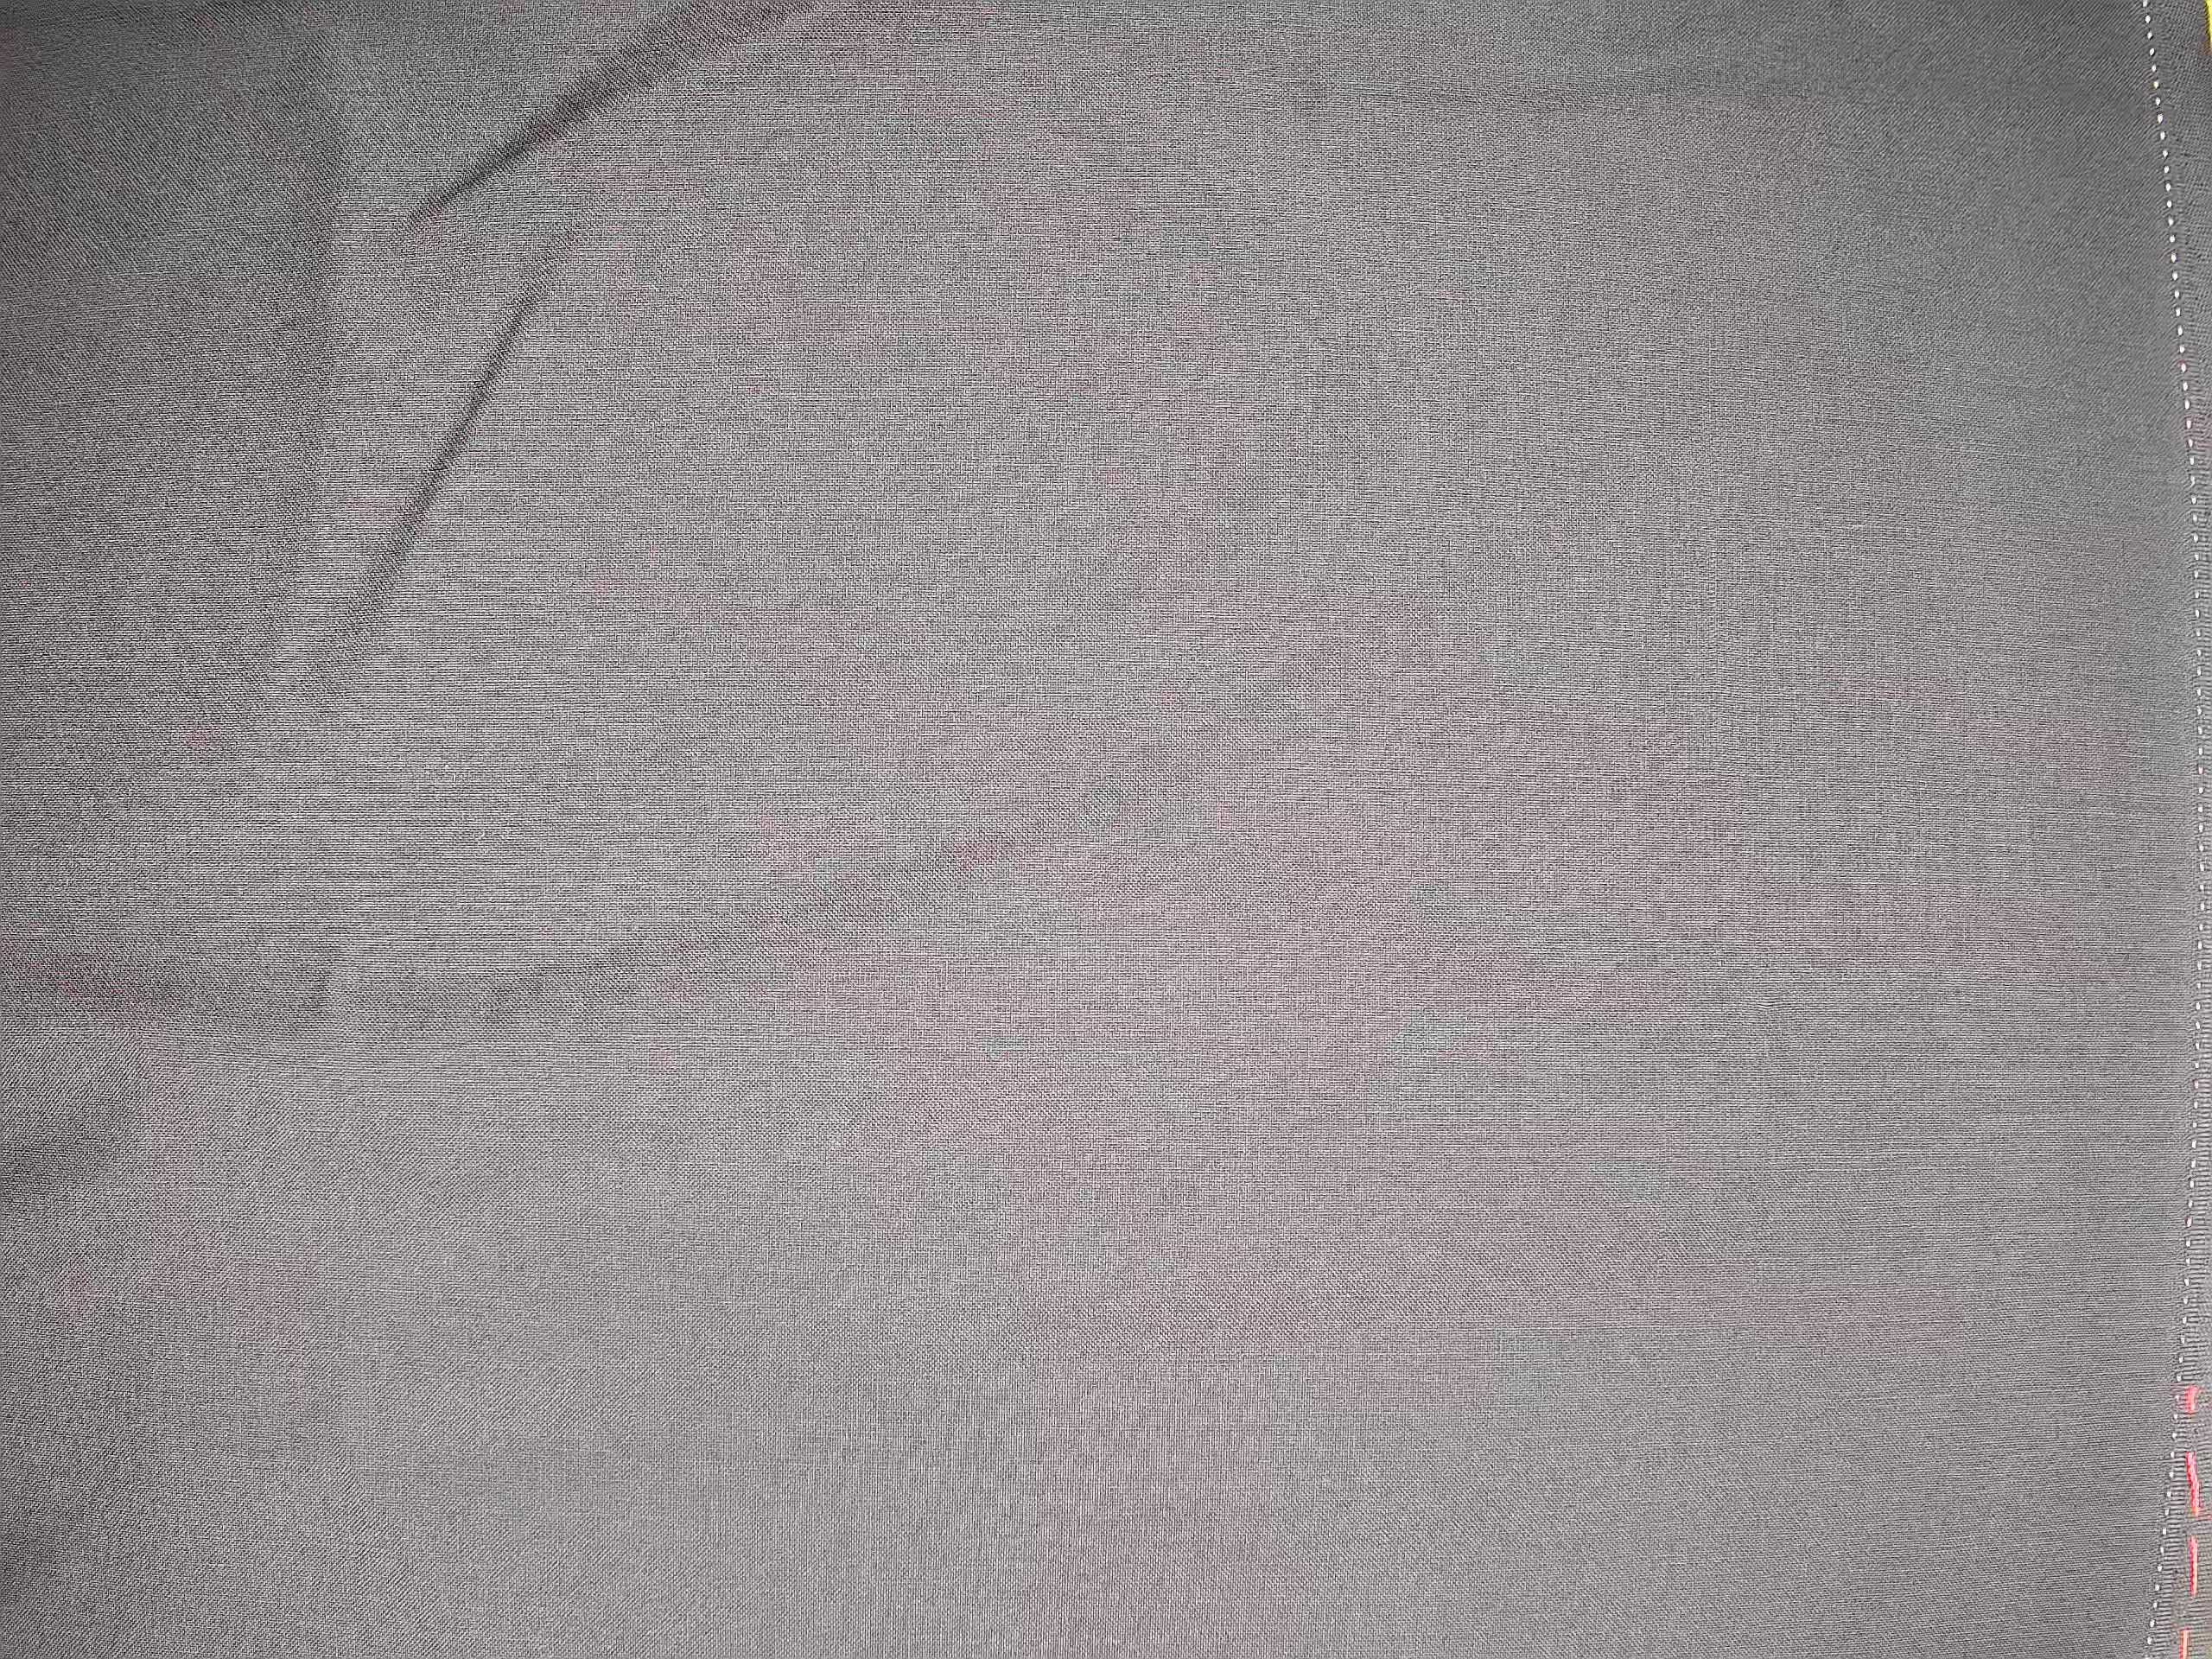others: (38, 725, 636, 856)
